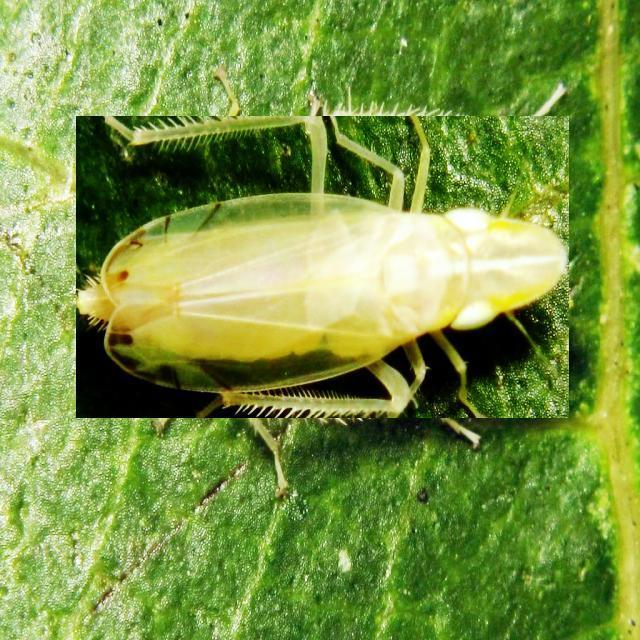green-leafhopper: (76, 116, 569, 418)
